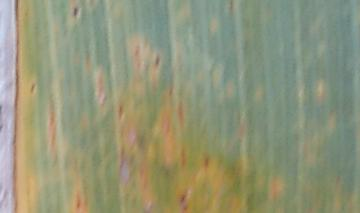tarspot: (116, 102, 124, 121), (201, 155, 210, 171), (153, 52, 161, 66), (70, 5, 78, 18), (28, 82, 36, 95), (133, 43, 140, 57), (178, 193, 188, 202), (180, 202, 188, 213)
